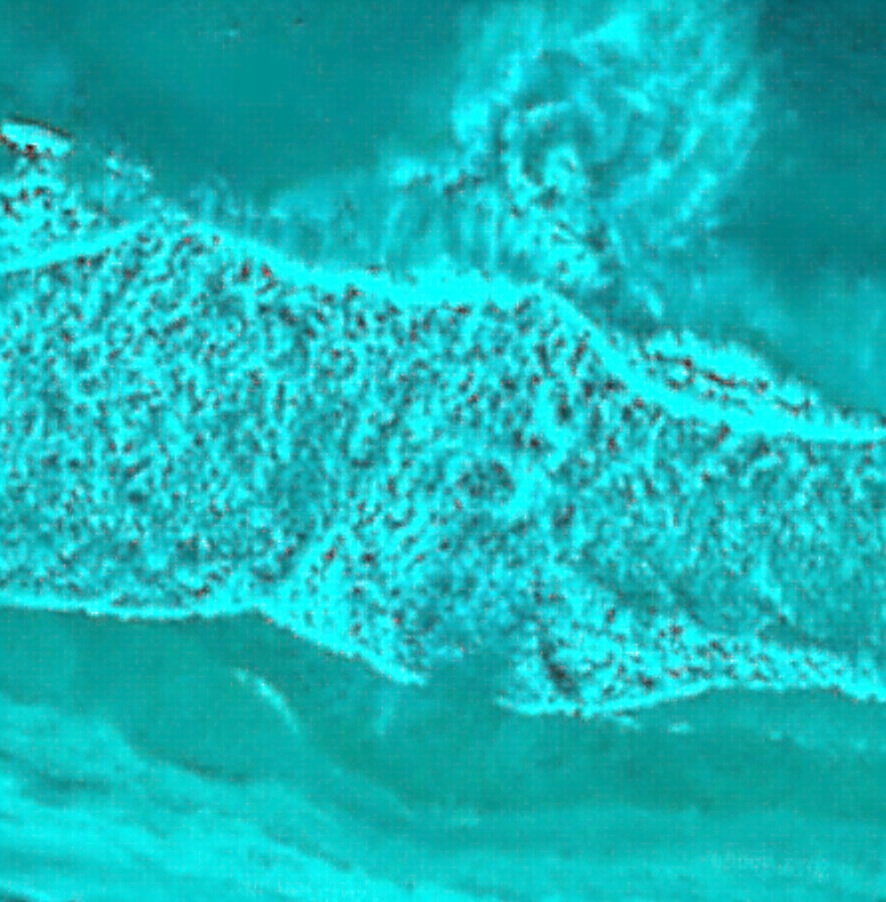rip_current: (354, 30, 721, 758)
